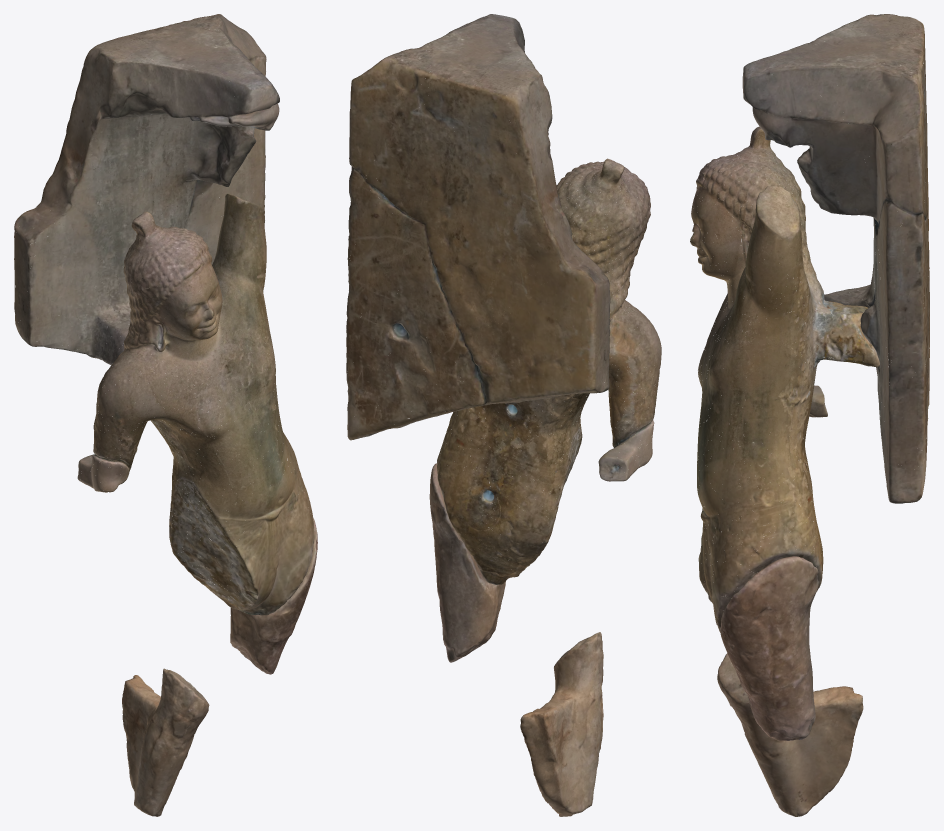
Rendered from krishna-govardhan-hi.glb.
3 renders of one model, left to right at view 1: azimuth 30°, elevation 25°; view 2: azimuth 150°, elevation 25°; view 3: azimuth 270°, elevation 25°, orthographic. The views are drawn at different scales.
Visible parts, largest first — view 1: Krishna Thigh Patch; view 2: Krishna Thigh Patch; view 3: Krishna Thigh Patch.
Part boxes in pixels (<box>): Krishna Thigh Patch: <box>14,14,317,816</box>; Krishna Thigh Patch: <box>346,14,661,816</box>; Krishna Thigh Patch: <box>690,14,929,816</box>.
Size of the model in its own units: 0.6903 by 2.03 by 0.5516.
Materials: 1 (1 with a texture image).
